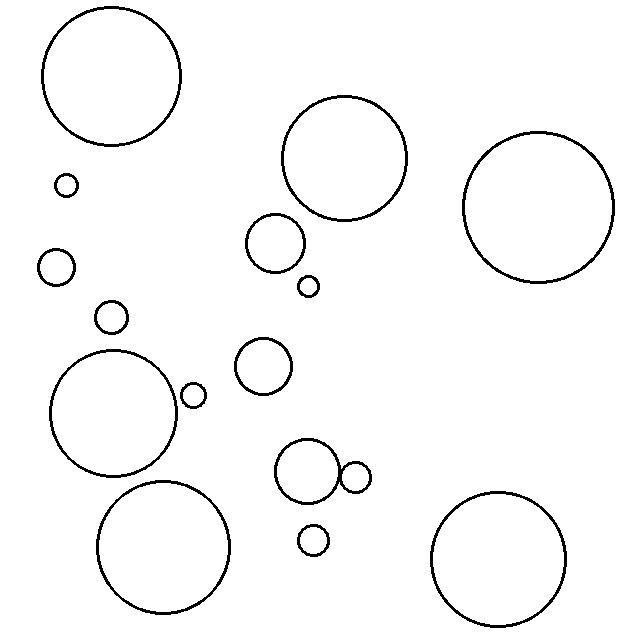circle: (461, 128, 619, 286), (41, 3, 183, 151), (427, 488, 569, 629), (93, 476, 234, 617), (47, 346, 179, 480), (281, 93, 411, 224), (272, 434, 341, 506), (233, 332, 296, 401), (242, 212, 308, 277), (36, 245, 78, 288), (92, 296, 132, 336), (296, 521, 331, 558), (340, 460, 374, 497), (181, 380, 209, 412), (53, 171, 83, 200), (296, 274, 322, 300)
